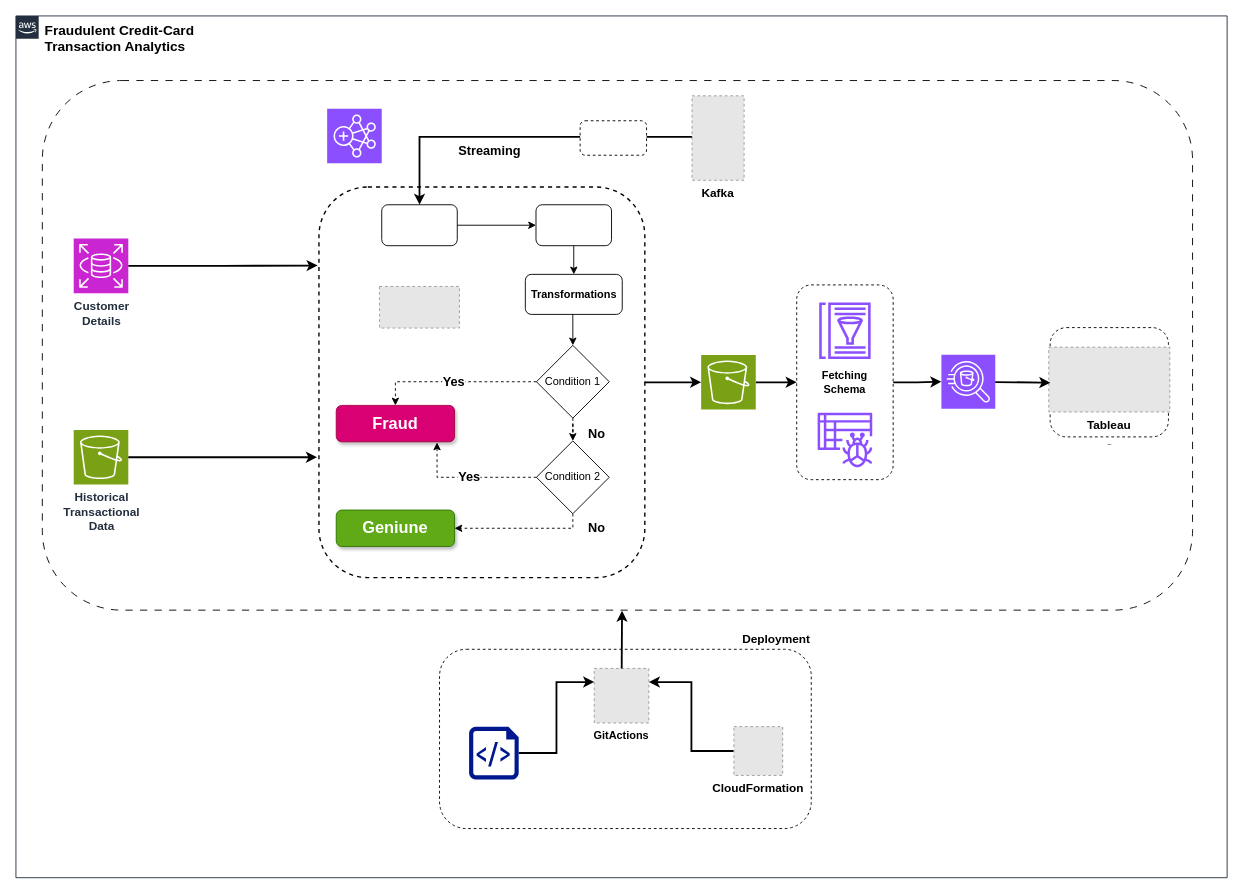
This 1243x894 diagram has some shape labels left out. Grey dashed boxes stand in for pictures. The shapes that lost their labels are listed below. From the top down, each one's centre as x and y in pixels, then its label:
At (354,135): "EMR".
At (613,137): "Read JSON".
At (419,225): "Reading Data".
At (573,225): "Validating Rules".
At (728,382): "Output Data".
At (967,381): "Ad-Hoc Queries".
At (493,752): "PyScript".
